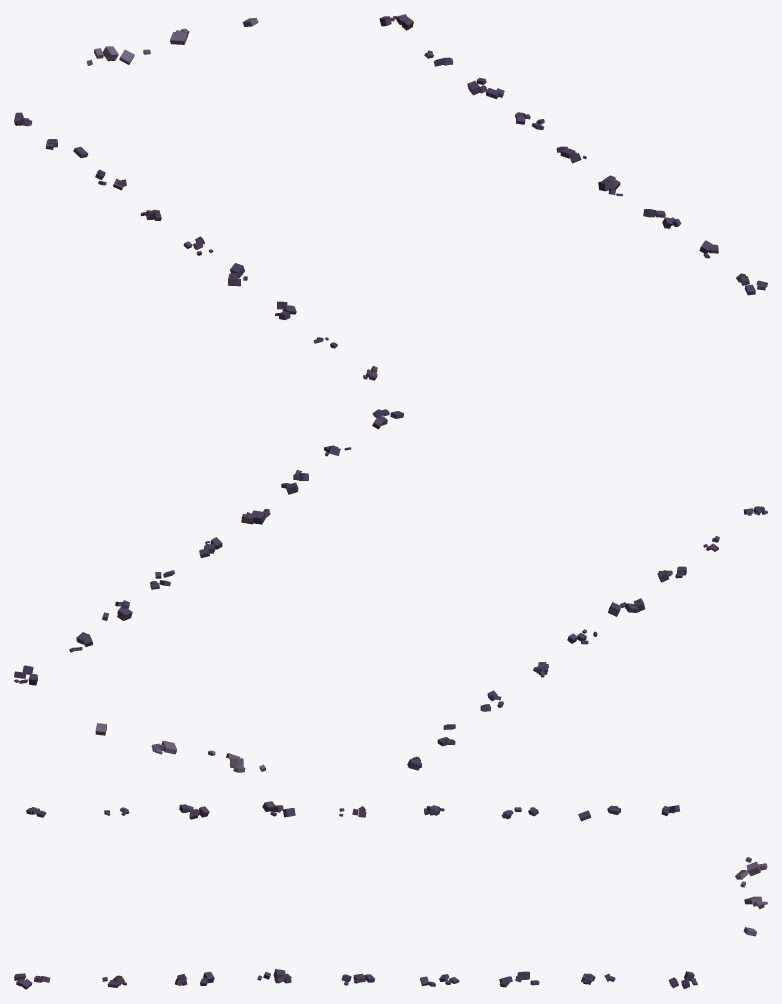
Rendered from Rubble.fbx.
3 views of the same model, one above another, from view 1: azimuth 30°, elevation 25°; view 2: azimuth 150°, elevation 25°; view 3: azimuth 270°, elevation 25° (orthographic). The views are drawn at different scales.
Visible parts, largest first — view 1: Rubble-1_0_0.001; view 2: Rubble-1_0_0.001; view 3: Rubble-1_0_0.001.
Part boxes in pixels (x1,y1,x2,y2): Rubble-1_0_0.001: (14,14,767,380); Rubble-1_0_0.001: (14,409,767,772); Rubble-1_0_0.001: (14,801,767,989).
Size of the model in its own units: 12751 by 409 by 22327.
